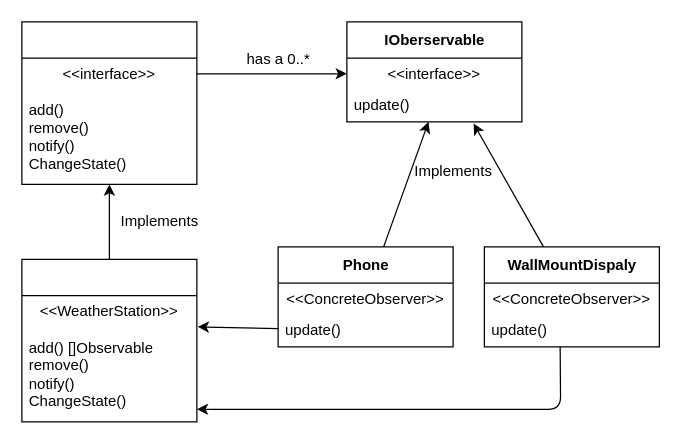
Image size: 681x444. Some labels were removed from this diagram. Each missing label, with the box of its shape:
ConcreteObserver: (21, 258, 197, 422)
IOberserver: (21, 21, 197, 184)
